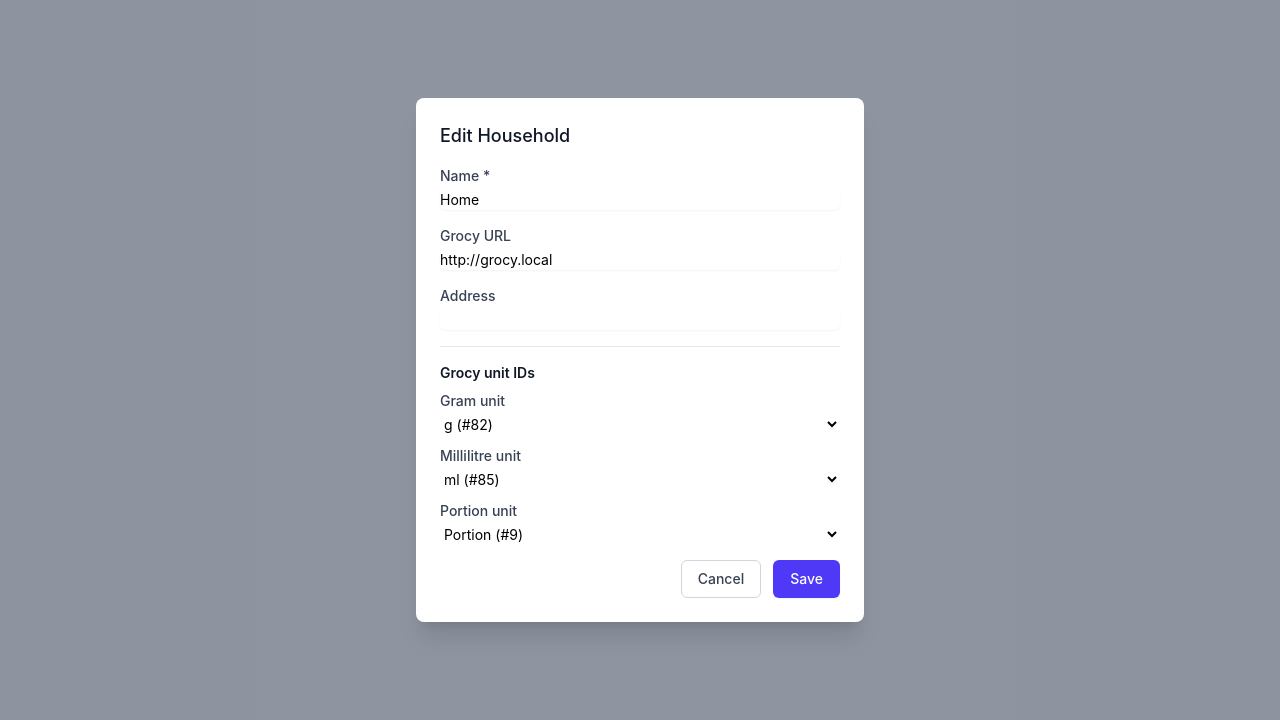
Scenario: EditHouseholdModal — Grocy unit IDs section › shows URL-changed warning when admin edits Grocy URL
Step 1. Replace the text in the field below "Grocy URL" with "http://other.local" → (640, 260), box [440,250,840,270]
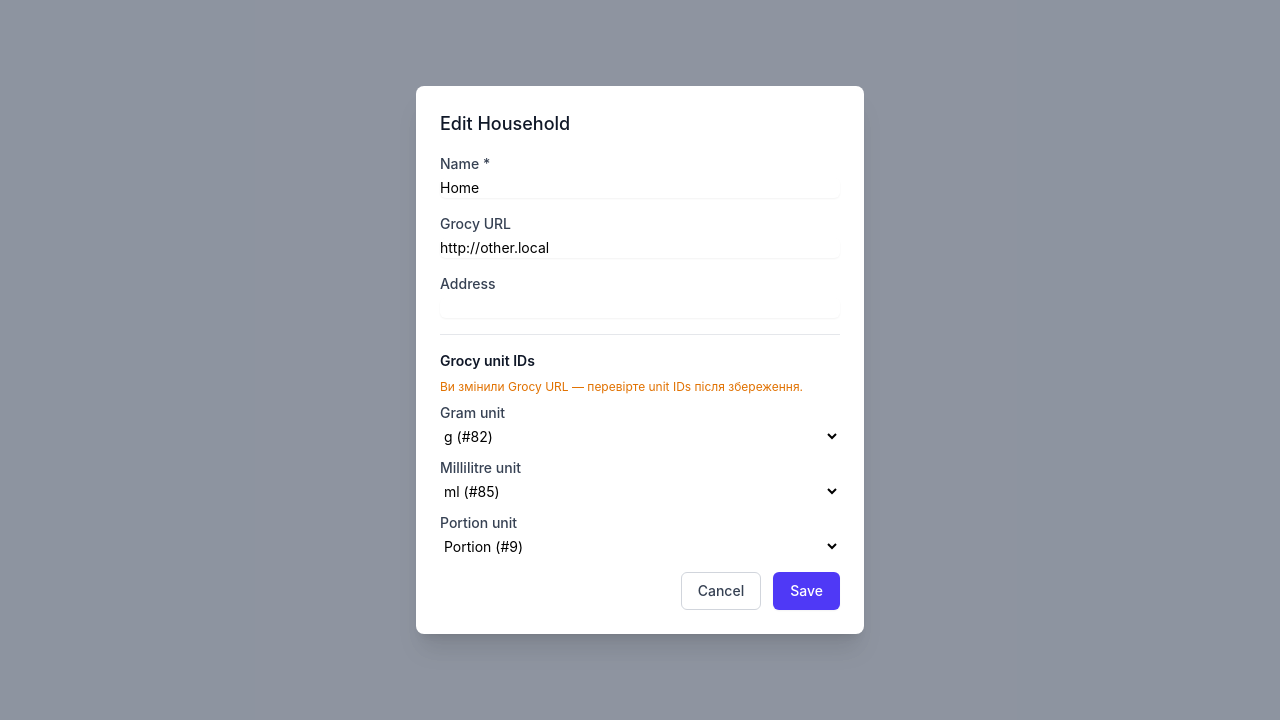
Expected: the text "Ви змінили Grocy URL" is shown, [440,379,803,394]
